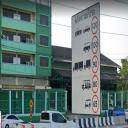speed_limit_100: (91, 36, 99, 54)
speed_limit_120: (91, 16, 98, 34)
speed_limit_80: (92, 75, 98, 93)
speed_limit_90: (91, 54, 99, 74)
